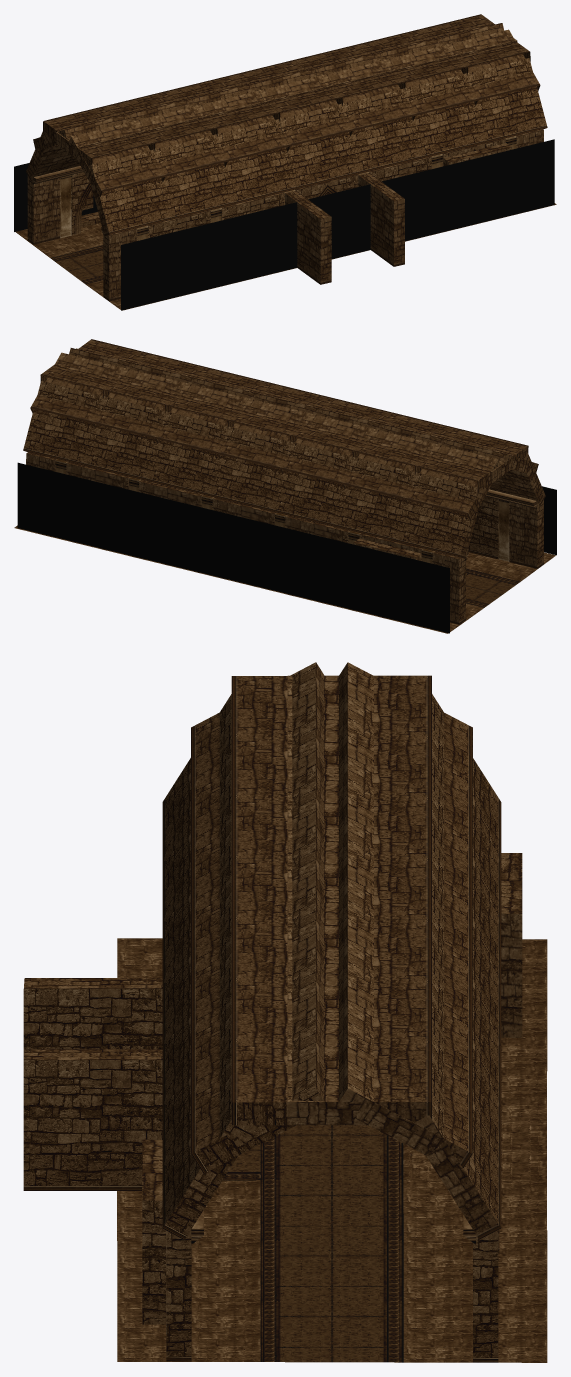
The model's file is TunnelTemplate2.fbx.
The picture shows the model from 3 angles, top to bottom: view 1: azimuth 30°, elevation 25°; view 2: azimuth 150°, elevation 25°; view 3: azimuth 270°, elevation 25°; orthographic projection. The views are drawn at different scales.
Parts seen in each view (by area): view 1: Plane.022, Plane.057, Plane.060, Plane.055, Plane.059, Plane.058, Plane.056, Plane.035, Floor, Plane.061, Plane.001, Plane.050 (+18 smaller); view 2: Plane.068, Plane.061, Plane.067, Plane.064, Plane.063, Plane.062, Plane.066, Plane.065, Floor, Plane.057, Plane.045, Plane.030 (+17 smaller); view 3: Floor, Plane.064, Plane.001, Plane.060, Plane.067, Plane.061, Plane.066, Plane.062, Plane.063, Plane.065, Plane.050, Plane.055 (+9 smaller).
Boxes of the visible parts, x1,y1,x2,y2 form: Plane.022: [121, 139, 554, 310]; Plane.057: [56, 121, 171, 236]; Plane.060: [446, 29, 547, 142]; Plane.055: [196, 91, 296, 204]; Plane.059: [384, 45, 484, 158]; Plane.058: [321, 60, 422, 173]; Plane.056: [133, 106, 233, 219]; Plane.035: [259, 75, 359, 188]; Floor: [16, 194, 556, 310]; Plane.061: [26, 106, 141, 181]; Plane.001: [358, 172, 404, 266]; Plane.050: [285, 190, 331, 284]; Plane.068: [17, 462, 449, 633]; Plane.061: [397, 440, 513, 558]; Plane.067: [210, 394, 325, 511]; Plane.064: [23, 348, 138, 466]; Plane.063: [272, 409, 388, 527]; Plane.062: [335, 424, 450, 541]; Plane.066: [147, 379, 263, 496]; Plane.065: [85, 363, 200, 481]; Floor: [14, 525, 555, 633]; Plane.057: [443, 430, 545, 505]; Plane.045: [509, 500, 543, 568]; Plane.030: [468, 496, 498, 559]; Floor: [117, 938, 547, 1362]; Plane.064: [287, 1028, 501, 1239]; Plane.001: [23, 1049, 162, 1190]; Plane.060: [162, 1027, 367, 1240]; Plane.067: [287, 845, 501, 1045]; Plane.061: [287, 662, 501, 862]; Plane.066: [287, 906, 501, 1106]; Plane.062: [287, 723, 501, 923]; Plane.063: [287, 784, 501, 984]; Plane.065: [287, 967, 501, 1167]; Plane.050: [23, 978, 162, 1059]; Plane.055: [162, 784, 323, 983].
Bounding box in the file's own units: 17519 × 5424 × 9063.
